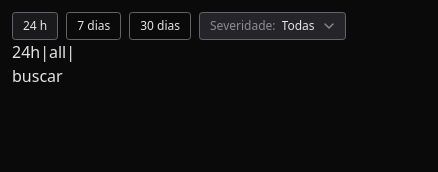
FilterBar › a severidade oferece todas as opções na ordem
The image size is (438, 172).
Click the dropdown labelled "Severidade" at (272, 26), box [199, 12, 346, 40]
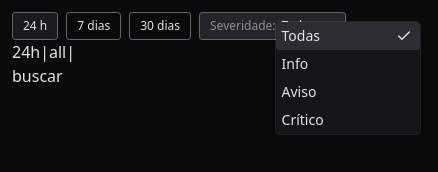
Check: the options read "Todas", "Info", "Aviso", "Crítico", in this order, box [276, 22, 420, 50]; [282, 54, 308, 73]; [282, 82, 316, 101]; [282, 110, 324, 129]
